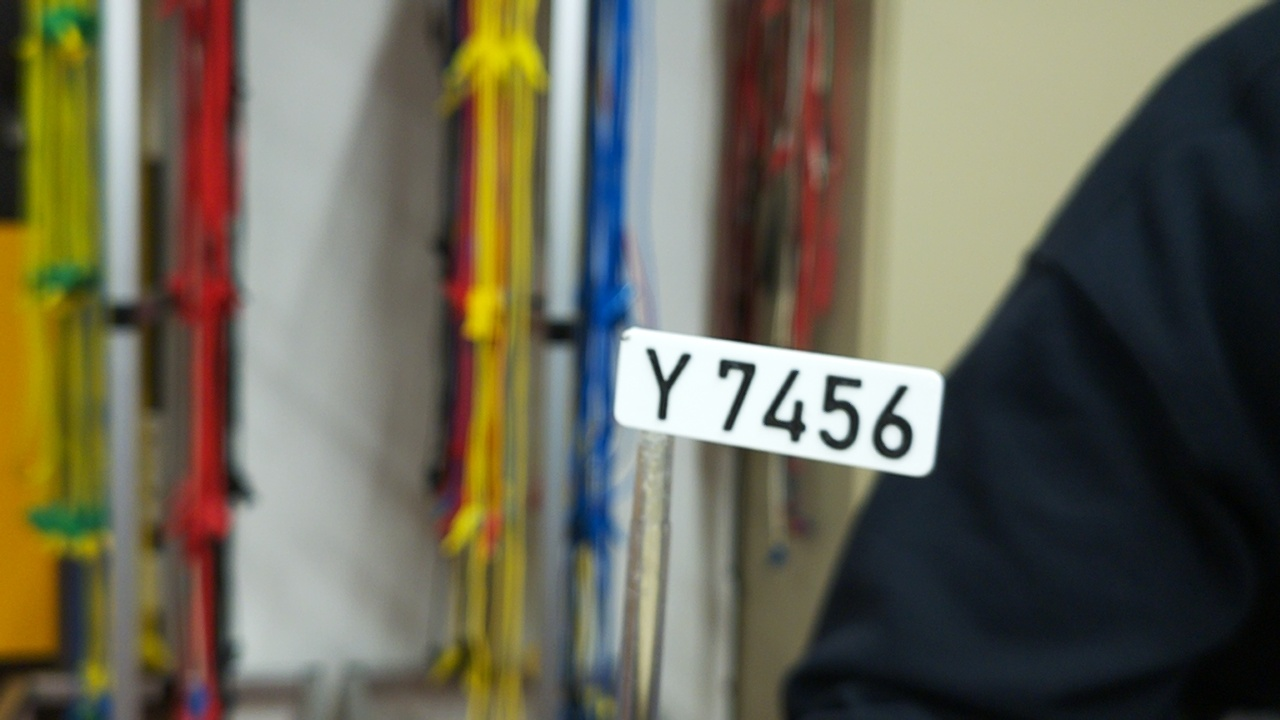license_plate: (609, 321, 946, 479)
